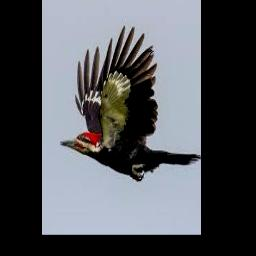Woodpecker: (59, 25, 200, 182)
